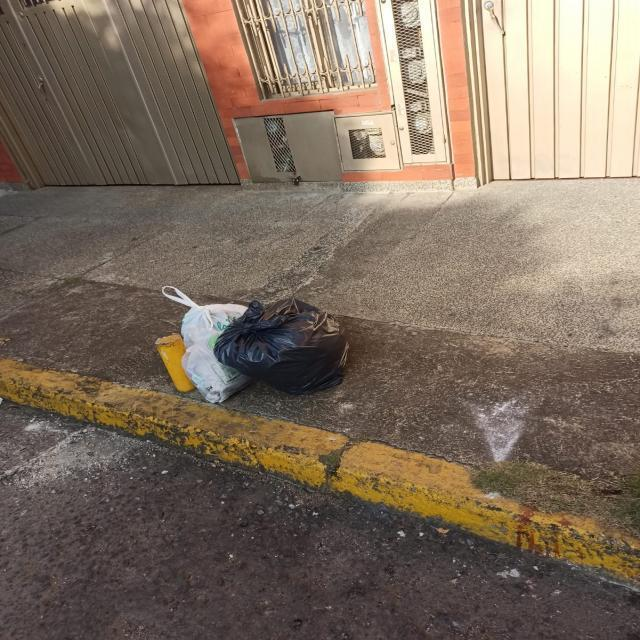Garbage_Bag: (215, 298, 354, 397), (160, 283, 268, 399)
